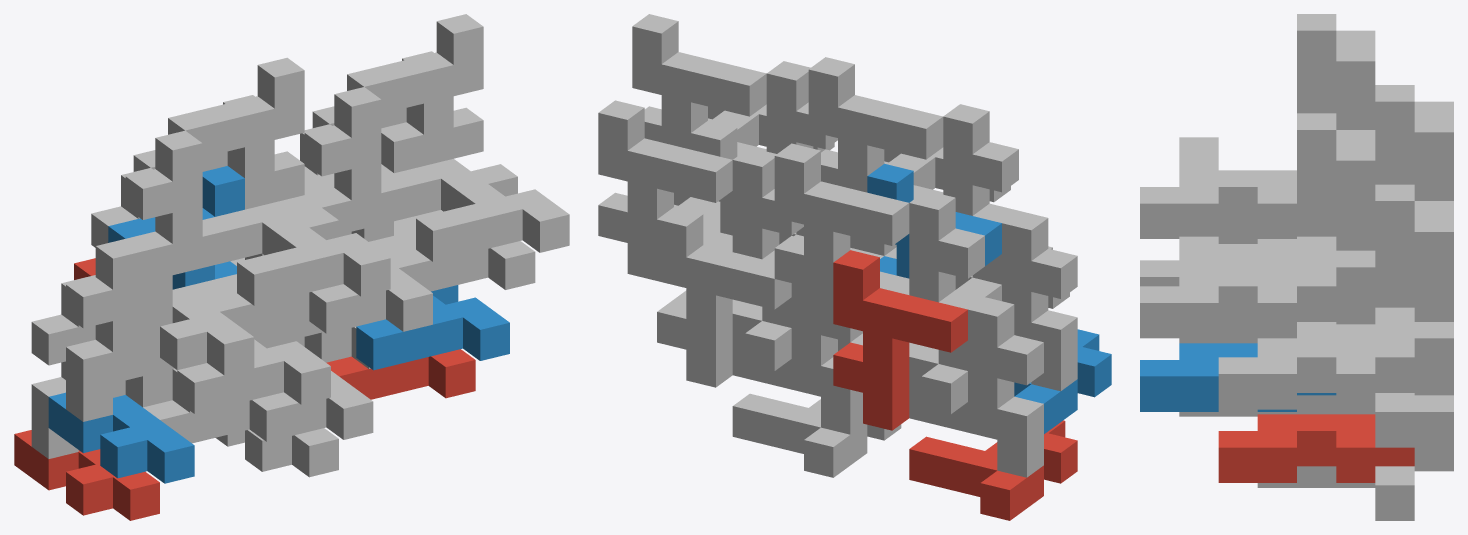
Rendered from tiling.obj.
The picture shows the model from 3 angles, left to right: view 1: azimuth 30°, elevation 25°; view 2: azimuth 150°, elevation 25°; view 3: azimuth 270°, elevation 25°; orthographic projection. The views are drawn at different scales.
Parts seen in each view (by area): view 1: copy_3_domain_4, copy_3_domain_2, copy_3_domain_8, copy_4_domain_4, copy_4_domain_8, copy_2_domain_4, copy_2_domain_8, copy_1_domain_2, copy_2_domain_6, copy_2_domain_2, copy_1_domain_4, copy_1_domain_1 (+16 smaller); view 2: copy_4_domain_1, copy_4_domain_5, copy_4_domain_3, copy_4_domain_7, copy_3_domain_1, copy_4_domain_4, copy_4_domain_8, copy_3_domain_2, copy_1_domain_1, copy_3_domain_3, copy_3_domain_4, copy_3_domain_5 (+12 smaller); view 3: copy_2_domain_8, copy_2_domain_7, copy_2_domain_4, copy_2_domain_5, copy_4_domain_7, copy_4_domain_8, copy_3_domain_7, copy_3_domain_8, copy_2_domain_6, copy_3_domain_3, copy_3_domain_4, copy_4_domain_3 (+10 smaller).
Boxes of the visible parts, x1,y1,x2,y2 form: copy_3_domain_4: [125, 130, 262, 313]; copy_3_domain_2: [66, 239, 174, 421]; copy_3_domain_8: [304, 87, 440, 236]; copy_4_domain_4: [168, 57, 304, 209]; copy_4_domain_8: [347, 14, 483, 165]; copy_2_domain_4: [237, 202, 390, 305]; copy_2_domain_8: [416, 158, 569, 261]; copy_1_domain_2: [48, 392, 194, 483]; copy_2_domain_6: [356, 285, 509, 370]; copy_2_domain_2: [177, 328, 330, 413]; copy_1_domain_4: [143, 274, 254, 375]; copy_1_domain_1: [14, 430, 159, 520]; copy_4_domain_1: [833, 250, 967, 430]; copy_4_domain_5: [657, 207, 791, 387]; copy_4_domain_3: [774, 143, 909, 323]; copy_4_domain_7: [598, 100, 732, 280]; copy_3_domain_1: [909, 297, 1043, 477]; copy_4_domain_4: [808, 57, 943, 192]; copy_4_domain_8: [632, 14, 766, 149]; copy_3_domain_2: [1002, 211, 1077, 391]; copy_1_domain_1: [909, 420, 1077, 520]; copy_3_domain_3: [880, 190, 984, 370]; copy_3_domain_4: [913, 104, 1018, 284]; copy_3_domain_5: [732, 283, 864, 434]; copy_2_domain_8: [1140, 236, 1336, 338]; copy_2_domain_7: [1218, 338, 1414, 409]; copy_2_domain_4: [1140, 137, 1296, 238]; copy_2_domain_5: [1218, 414, 1414, 482]; copy_4_domain_7: [1414, 201, 1453, 392]; copy_4_domain_8: [1336, 130, 1375, 321]; copy_3_domain_7: [1375, 184, 1414, 340]; copy_3_domain_8: [1297, 113, 1336, 269]; copy_2_domain_6: [1140, 343, 1336, 411]; copy_3_domain_3: [1375, 85, 1414, 184]; copy_3_domain_4: [1297, 14, 1336, 113]; copy_4_domain_3: [1414, 101, 1453, 200].
Size of the model in its own units: 14 by 12 by 8.
